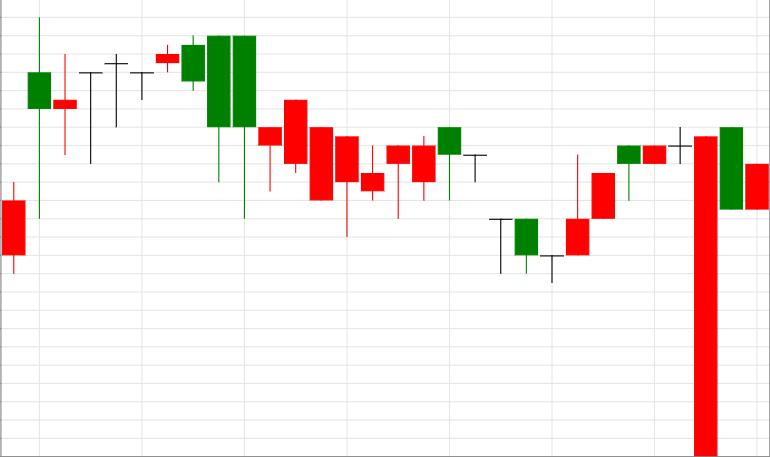morning_star_rise: (439, 127, 589, 282)
